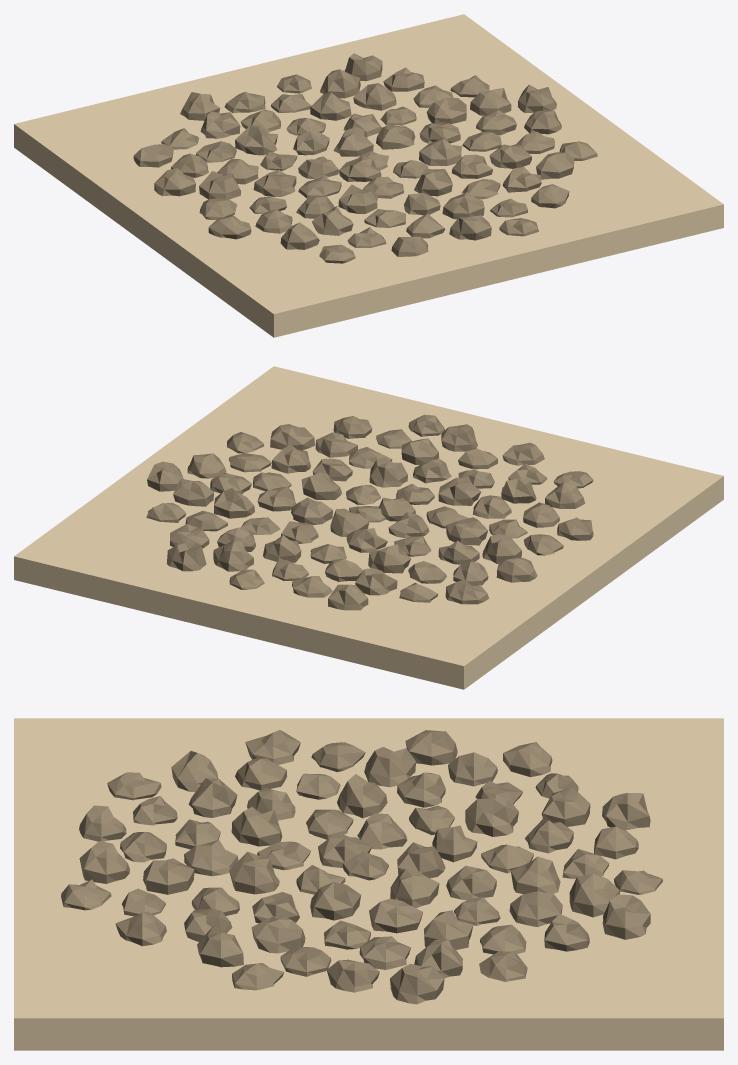
The model's file is desert-canyons-and-oases-cryptobiotic-crust-527c17f8__21030.glb.
3 renders of one model, top to bottom at view 1: azimuth 30°, elevation 25°; view 2: azimuth 150°, elevation 25°; view 3: azimuth 270°, elevation 25°, orthographic. The views are drawn at different scales.
Parts seen in each view (by area): view 1: cryptobiotic-crust; view 2: cryptobiotic-crust; view 3: cryptobiotic-crust.
Boxes of the visible parts, x1=… form: cryptobiotic-crust: x1=14, y1=14, x2=723, y2=337; cryptobiotic-crust: x1=14, y1=366, x2=723, y2=689; cryptobiotic-crust: x1=14, y1=718, x2=723, y2=1050.
Bounding box in the file's own units: 2 × 0.1933 × 2.
